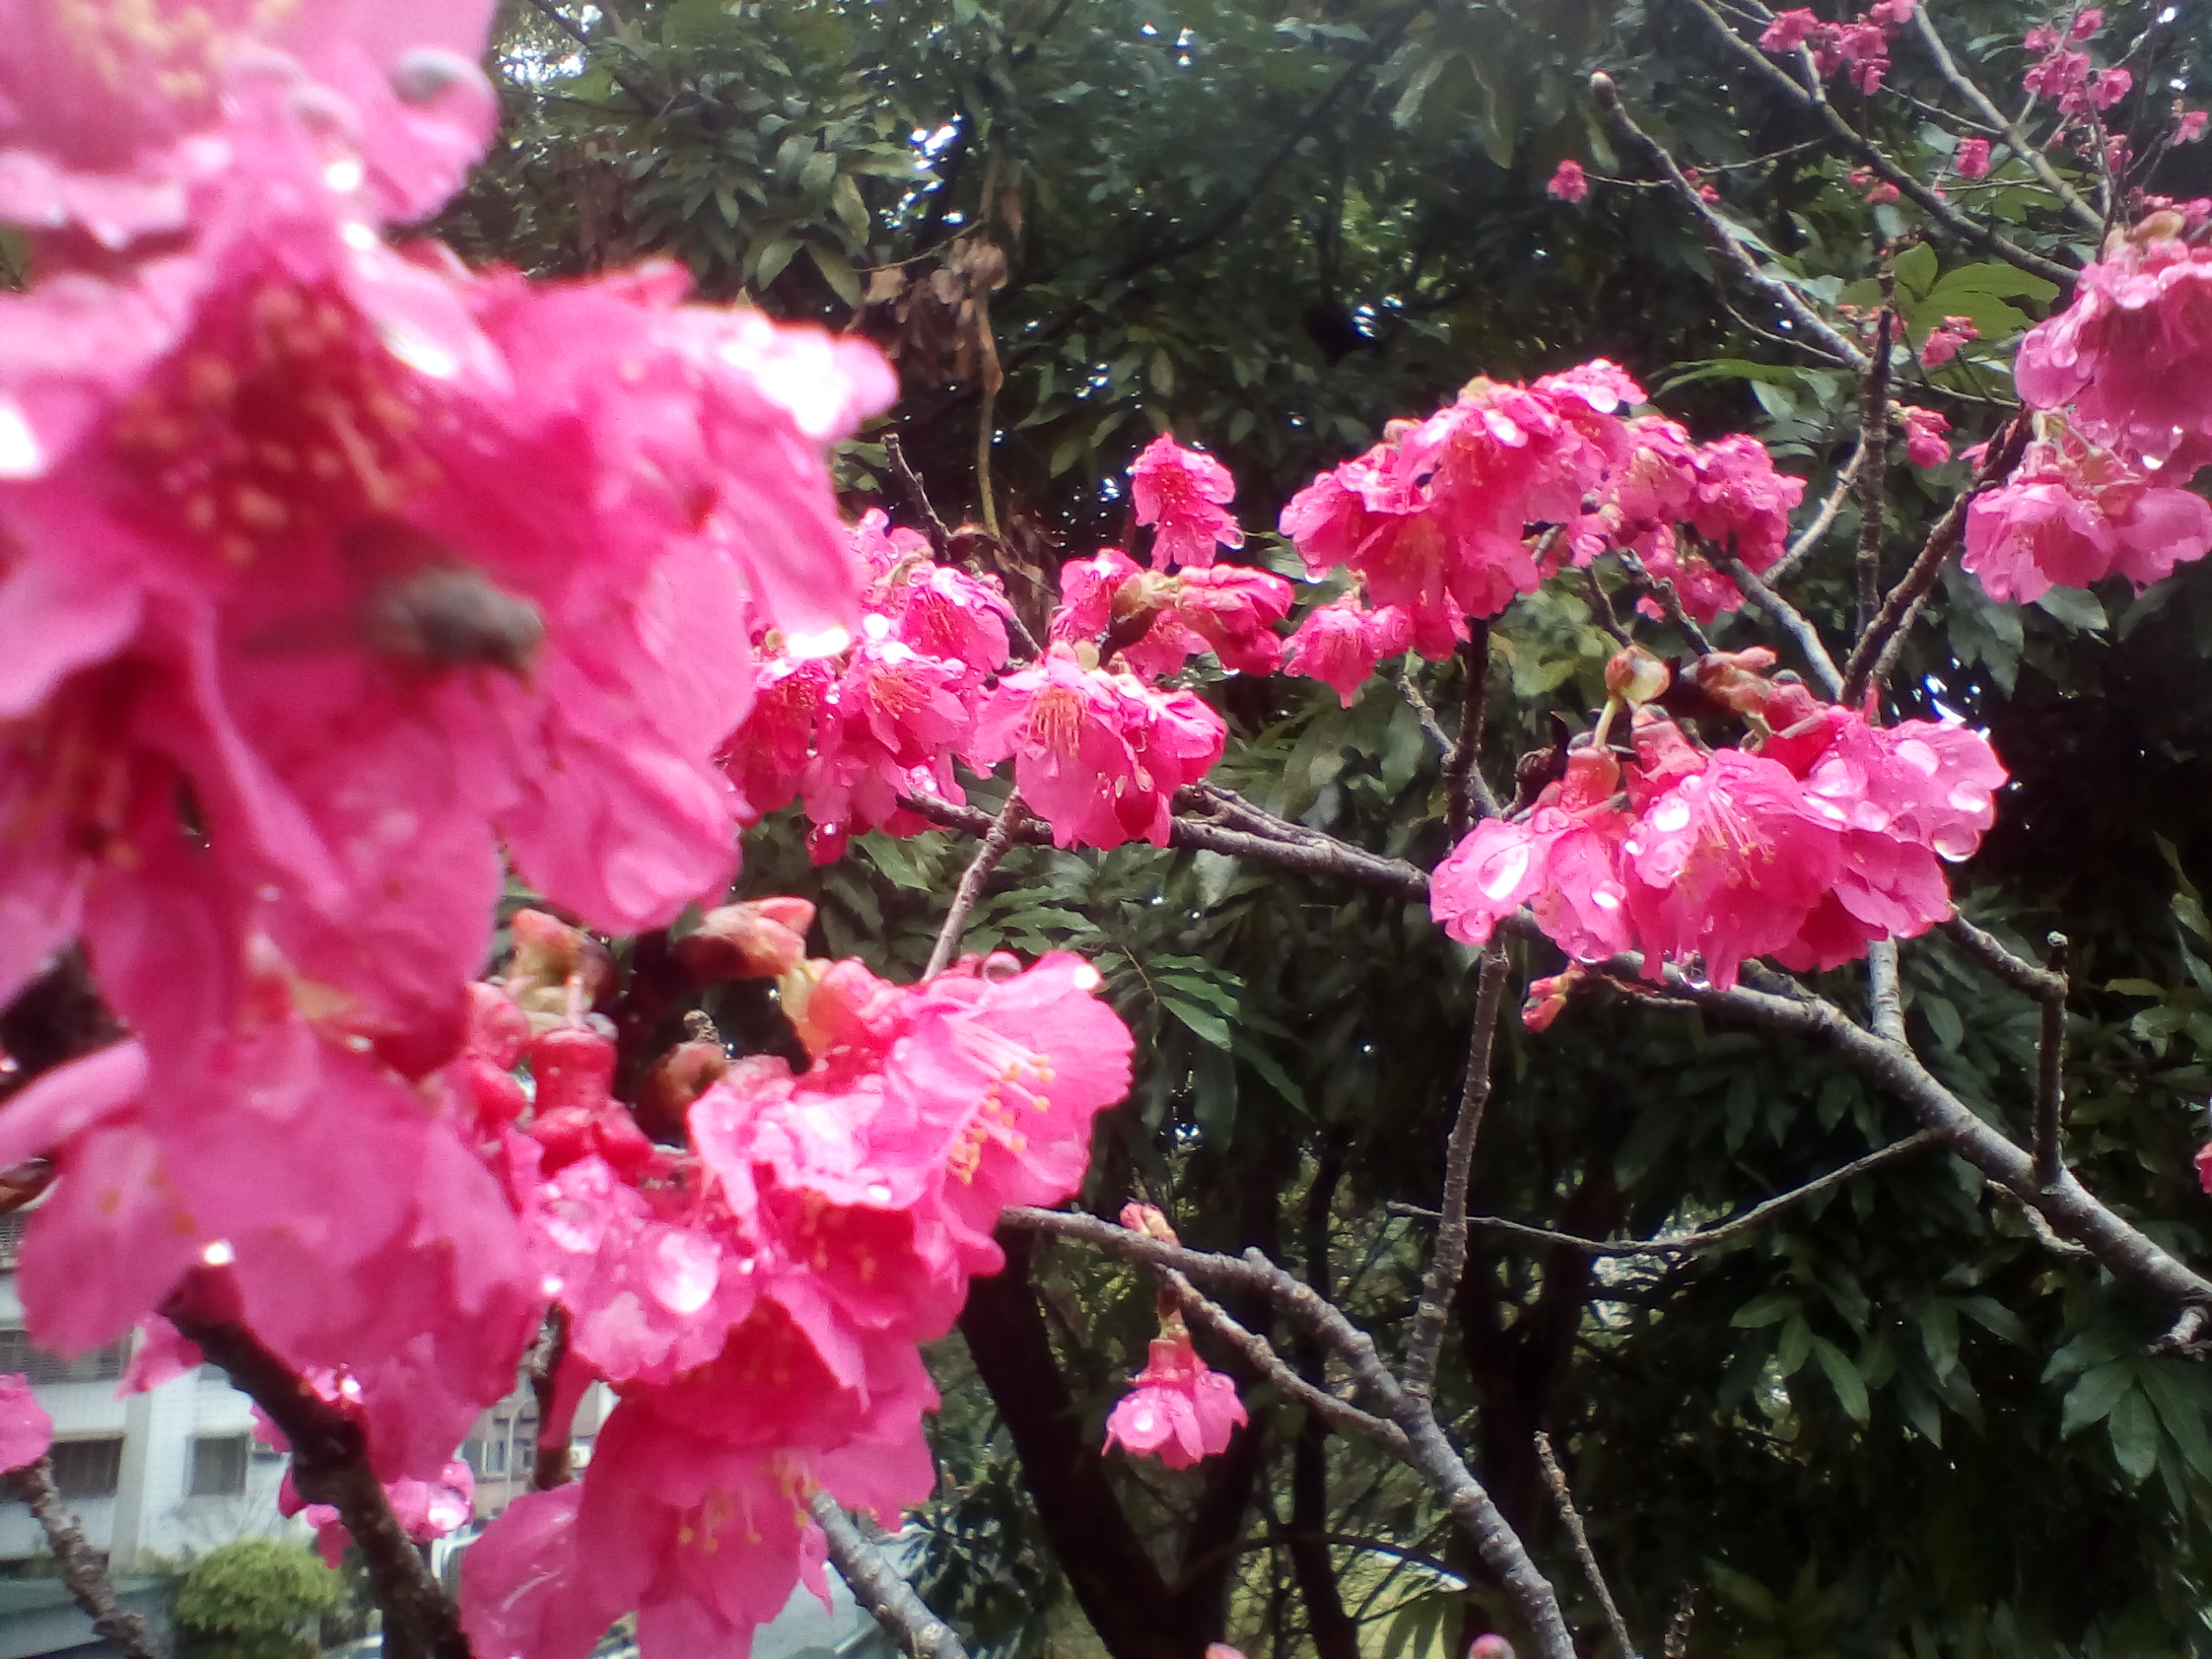sakula: (1480, 633, 2019, 1044)
